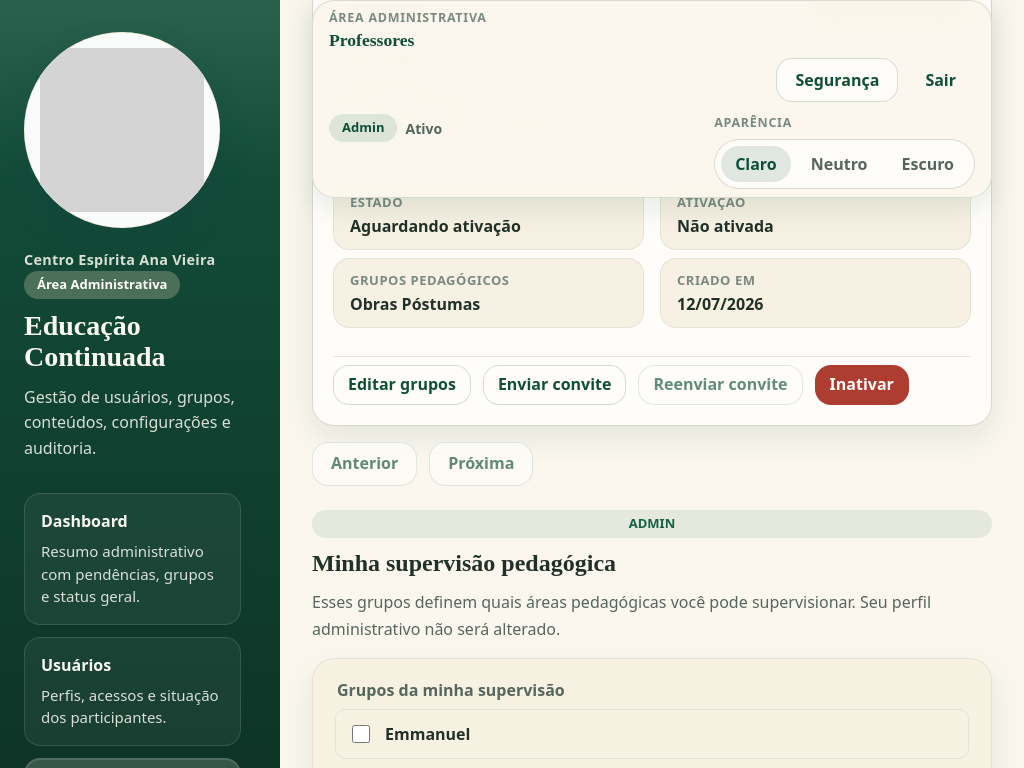
Test: AdminTeachersPage › permite envio por userId e mantém reenvio bloqueado por falta de invitationId correlacionado
(page scrolled)
Expected: the heading "Prof. Davi" is shown, [333,47,427,71]
Expected: the button "Reenviar convite" is disabled, [638,364,803,404]
What coordinates should you click on to do the following:
click the button with aria-label "Enviar convite para Prof. Davi"
I would click on:
 (555, 384)
Its box is [483,364,626,404].
(page scrolled)
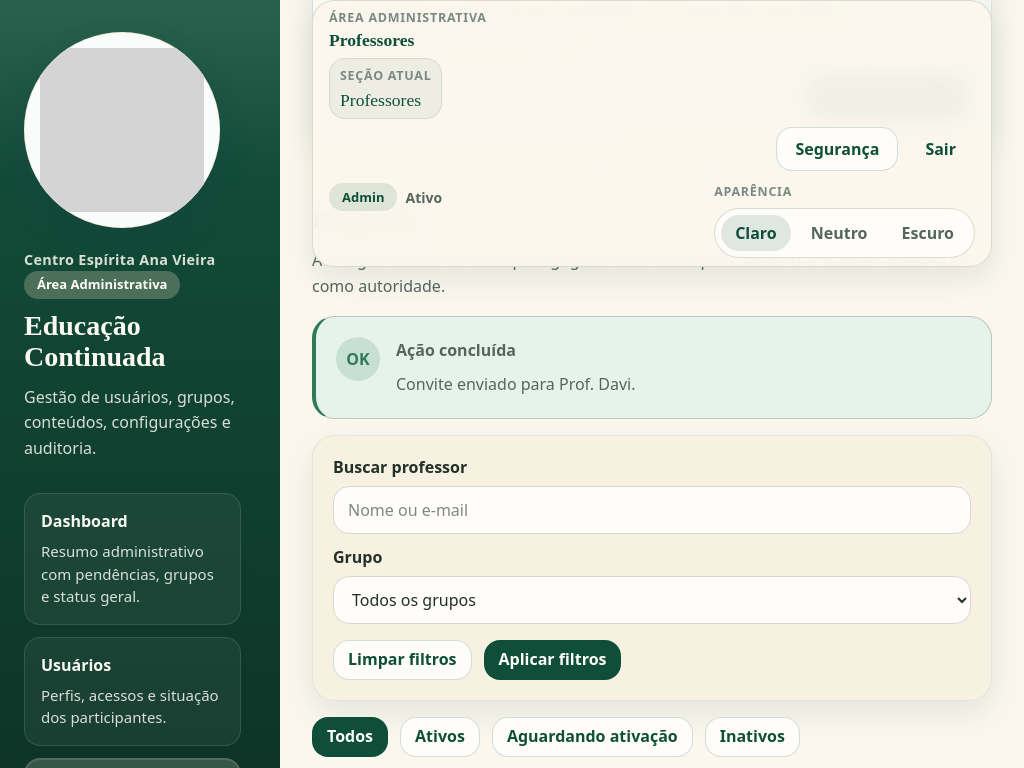
Result: the text "Convite enviado para Prof. Davi." is shown at [396,373,636,395]
